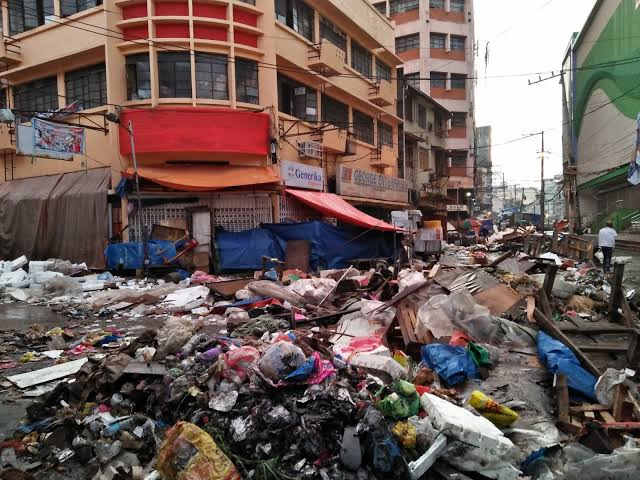garbage: (193, 268, 635, 468), (105, 338, 516, 480), (4, 260, 313, 310)
